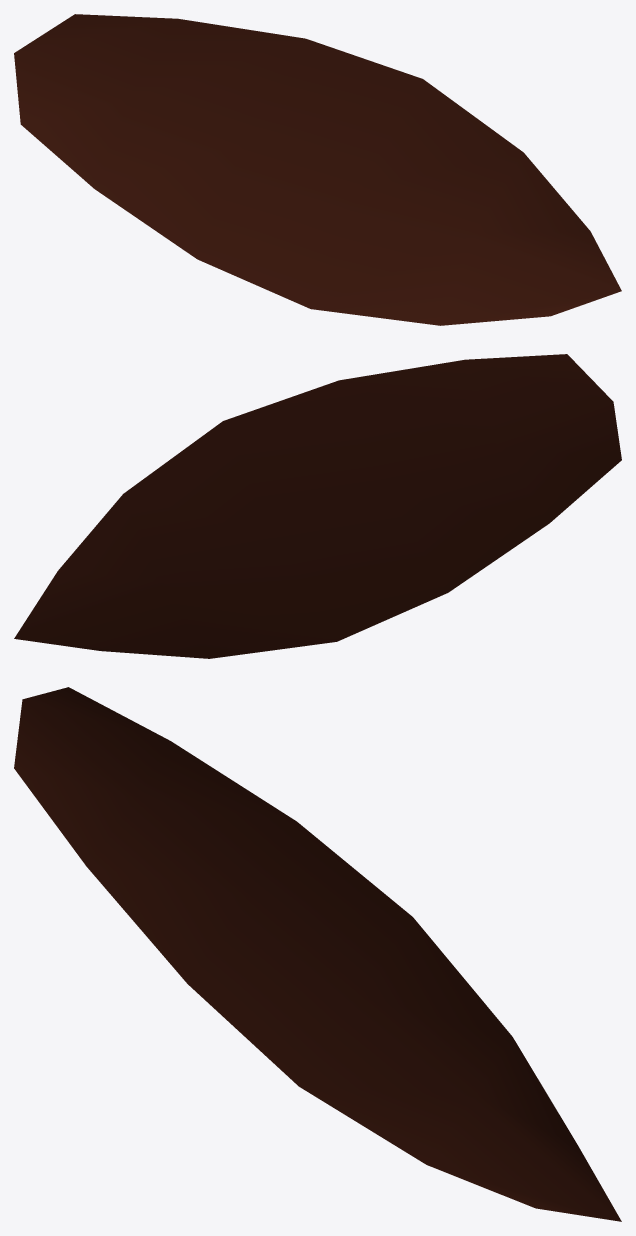
The model's file is rooster_feather_flight_tertiary_061.obj.
3 renders of one model, top to bottom at view 1: azimuth 30°, elevation 25°; view 2: azimuth 150°, elevation 25°; view 3: azimuth 330°, elevation 25°, orthographic. The views are drawn at different scales.
Parts seen in each view (by area): view 1: feather_flight_tertiary_061; view 2: feather_flight_tertiary_061; view 3: feather_flight_tertiary_061.
Boxes of the visible parts, x1,y1,x2,y2 form: feather_flight_tertiary_061: (14, 14, 621, 325); feather_flight_tertiary_061: (14, 354, 621, 658); feather_flight_tertiary_061: (14, 687, 621, 1221).
Size of the model in its own units: 0.0241 by 0.0158 by 0.000781.
